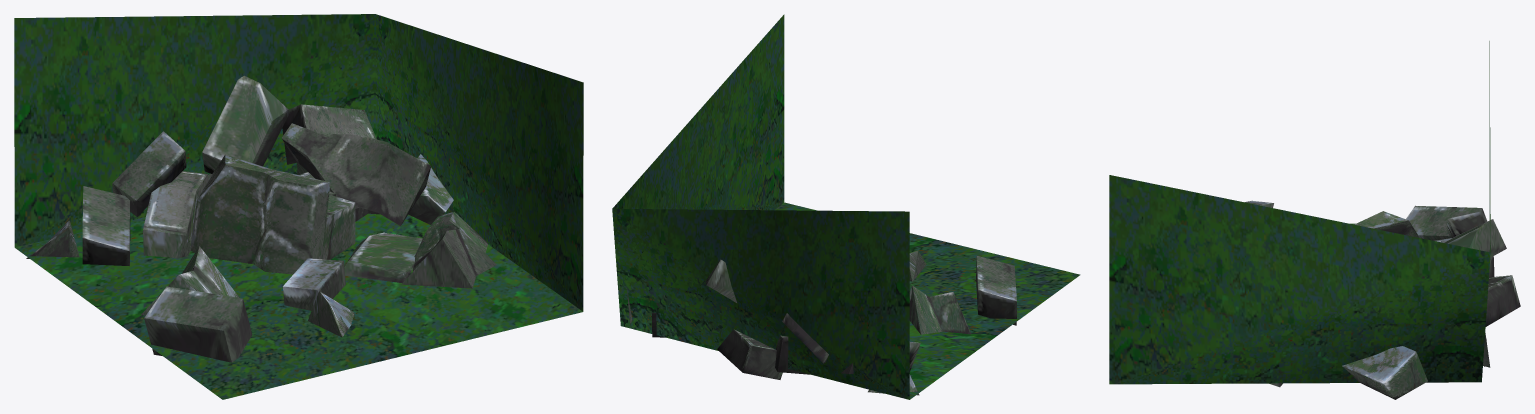
Rendered from stemple_rubble_concave_01.fbx.
3 renders of one model, left to right at view 1: azimuth 30°, elevation 25°; view 2: azimuth 150°, elevation 25°; view 3: azimuth 270°, elevation 25°, orthographic. The views are drawn at different scales.
Parts seen in each view (by area): view 1: stemple_rubble_concave_01-0; view 2: stemple_rubble_concave_01-0; view 3: stemple_rubble_concave_01-0.
Part boxes in pixels (x1,y1,x2,y2): stemple_rubble_concave_01-0: (14,14,583,399); stemple_rubble_concave_01-0: (612,14,1080,399); stemple_rubble_concave_01-0: (1109,41,1520,399).
Size of the model in its own units: 3.96 by 2.43 by 3.84.
